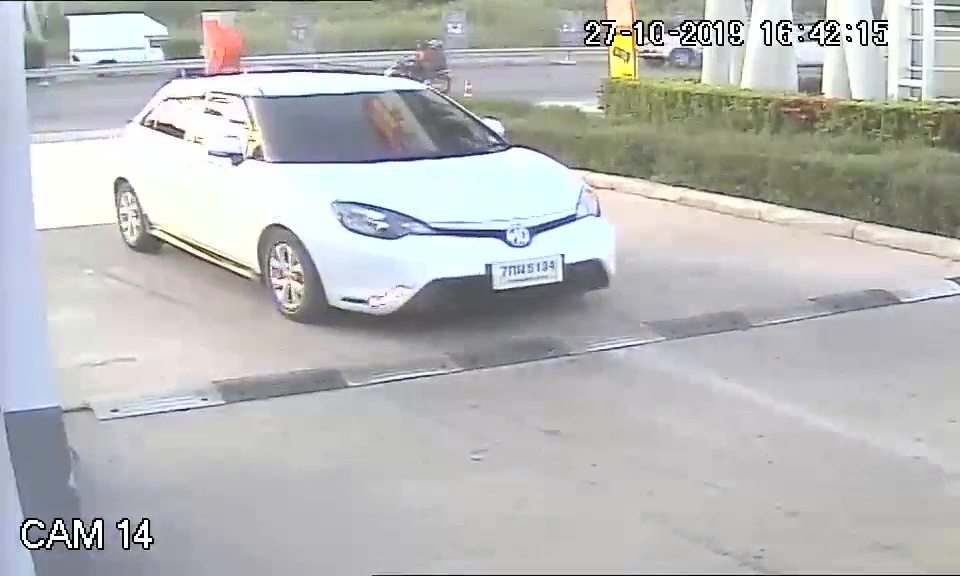sedan: (112, 70, 618, 322)
